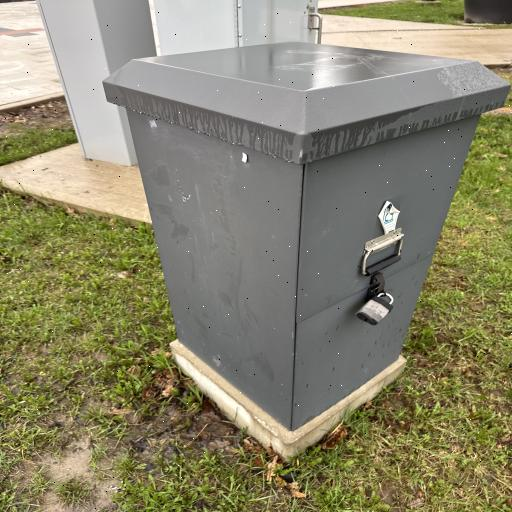Electrical Box: (101, 42, 512, 434)
